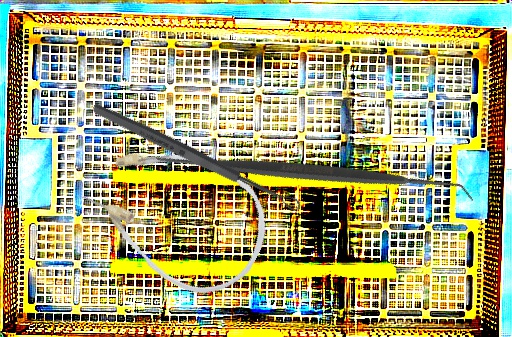Cannula: (66, 114, 288, 313)
Spatula Surgical: (146, 9, 474, 336)
Surgical Spoon: (90, 100, 303, 215)
